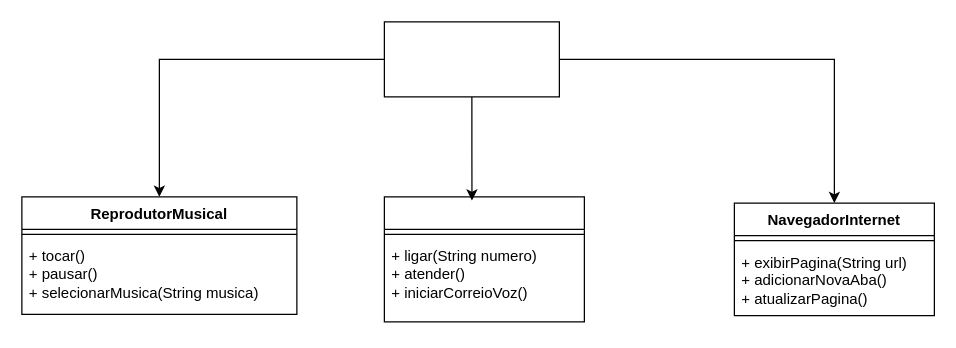
The diagram is 956 pixels wide and 348 high, and some of its shapes have lost their labels. The shapes that lost their labels are listed below. From the top down, each one's box as (x1, y1, x2, y2) in pixels, then its label:
(383, 21, 559, 97): Iphone
(383, 196, 584, 322): AparelhoTelefonico
